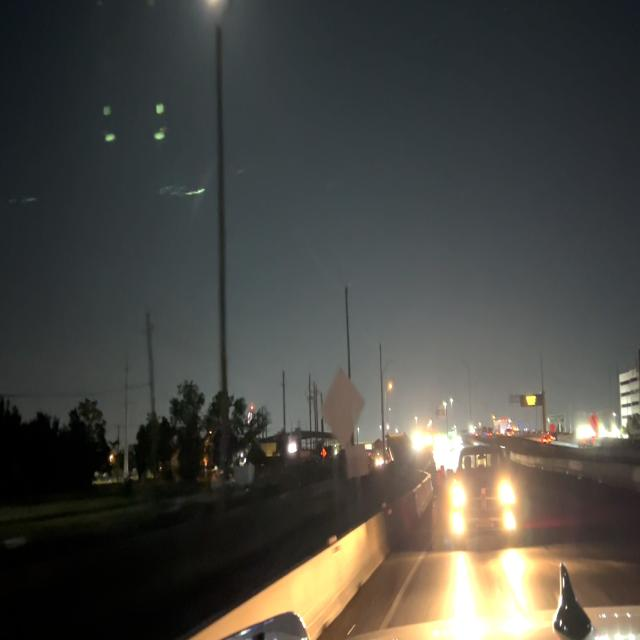back-of-sign: (321, 369, 367, 449), (345, 446, 369, 481)
